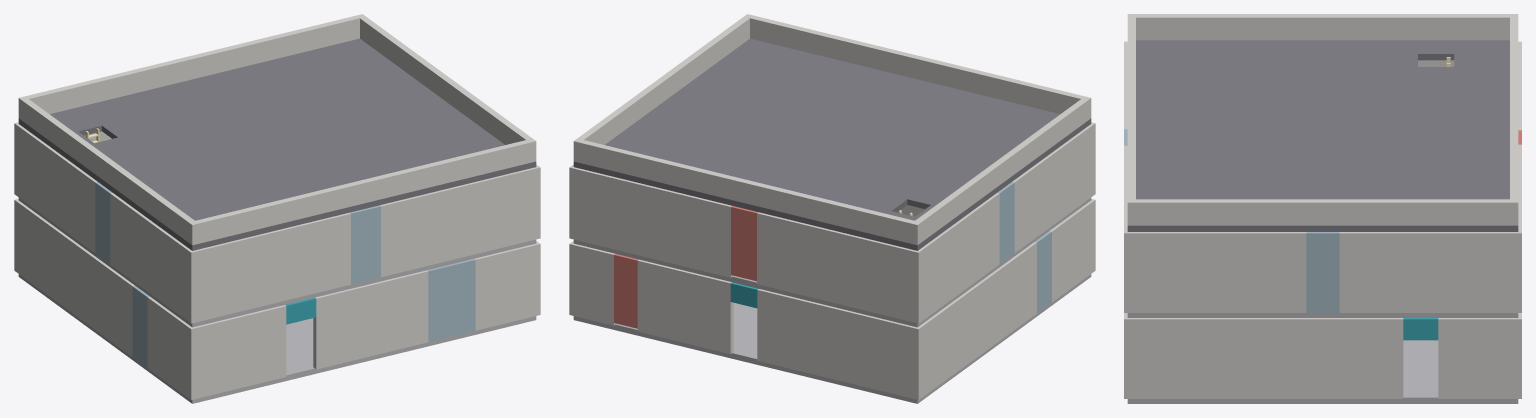
The model's file is pawn_shop_a01.glb.
The picture shows the model from 3 angles, left to right: view 1: azimuth 30°, elevation 25°; view 2: azimuth 150°, elevation 25°; view 3: azimuth 270°, elevation 25°; orthographic projection. The views are drawn at different scales.
Parts seen in each view (by area): view 1: slab_2_t1_1, slab_2_t1_2, slab_2_t2_1, slab_2_t2_2, slab_2_t1_3, slab_2_t2_3, slab_2_t1_0, slab_2_t0_1, slab_2_t0_2, slab_2_t2_0, ext_0_S_seg3, slab_2_t0_3 (+56 smaller); view 2: slab_2_t1_1, slab_2_t1_2, slab_2_t0_1, slab_2_t0_2, slab_2_t1_3, slab_2_t0_3, slab_2_t1_0, slab_2_t0_0, slab_2_t2_1, slab_2_t2_2, ext_0_N_seg4, slab_2_t2_3 (+57 smaller); view 3: slab_2_t1_1, slab_2_t1_2, slab_2_t0_1, slab_2_t0_2, slab_2_t2_1, slab_2_t2_2, slab_2_t1_0, slab_2_t0_0, slab_2_t2_0, ext_0_E_seg2, ext_0_E_seg3, ext_1_E_seg2 (+44 smaller).
Part boxes in pixels (box(x1,y1,x2,y2)): slab_2_t1_1: box(163, 118, 305, 181); slab_2_t1_2: box(249, 97, 391, 160); slab_2_t2_1: box(109, 79, 247, 139); slab_2_t2_2: box(195, 58, 333, 118); slab_2_t1_3: box(335, 78, 471, 139); slab_2_t2_3: box(281, 38, 413, 97); slab_2_t1_0: box(76, 139, 219, 207); slab_2_t0_1: box(221, 161, 364, 229); slab_2_t0_2: box(307, 140, 450, 208); slab_2_t2_0: box(18, 100, 161, 165); ext_0_S_seg3: box(313, 287, 359, 369); slab_2_t0_3: box(393, 120, 536, 187); slab_2_t1_1: box(804, 118, 946, 181); slab_2_t1_2: box(718, 97, 860, 160); slab_2_t0_1: box(862, 79, 1000, 139); slab_2_t0_2: box(776, 58, 914, 118); slab_2_t1_3: box(638, 78, 774, 139); slab_2_t0_3: box(696, 38, 828, 97); slab_2_t1_0: box(890, 139, 1033, 207); slab_2_t0_0: box(948, 100, 1091, 165); slab_2_t2_1: box(745, 161, 888, 229); slab_2_t2_2: box(659, 140, 802, 208); ext_0_N_seg4: box(687, 272, 733, 353); slab_2_t2_3: box(573, 120, 716, 187); slab_2_t1_1: box(1258, 84, 1387, 131); slab_2_t1_2: box(1258, 131, 1387, 178); slab_2_t0_1: box(1136, 84, 1257, 131); slab_2_t0_2: box(1136, 131, 1257, 178); slab_2_t2_1: box(1388, 84, 1509, 131); slab_2_t2_2: box(1388, 131, 1509, 178); slab_2_t1_0: box(1258, 40, 1387, 83); slab_2_t0_0: box(1136, 40, 1257, 83); slab_2_t2_0: box(1388, 40, 1509, 83); ext_0_E_seg2: box(1242, 318, 1298, 398); ext_0_E_seg3: box(1298, 318, 1354, 398); ext_1_E_seg2: box(1242, 232, 1298, 312).
Size of what is drawn, in the model's own units: 16.25 by 7.95 by 14.25.
